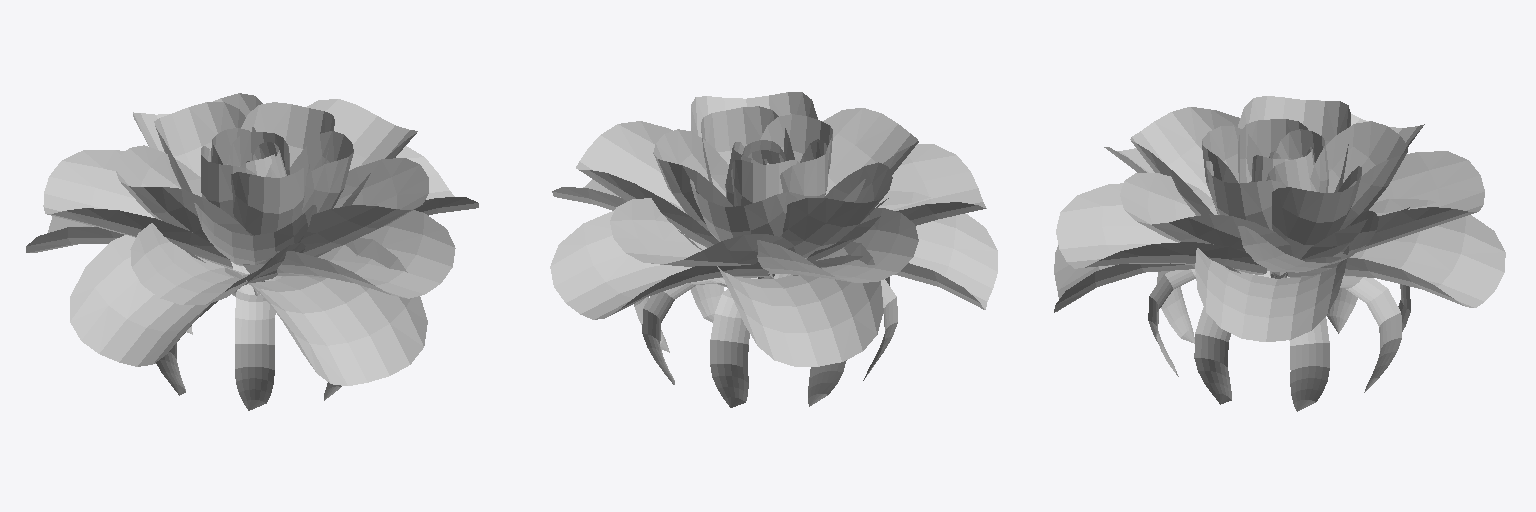
Rendered from FlowerTopModel_03_seq_0043.obj.
The picture shows the model from 3 angles: view 1: azimuth 30°, elevation 25°; view 2: azimuth 150°, elevation 25°; view 3: azimuth 270°, elevation 25°; orthographic projection.
Parts seen in each view (by area): view 1: FlowerTopModel_03; view 2: FlowerTopModel_03; view 3: FlowerTopModel_03.
Part boxes in pixels (left/top/right/bottom): FlowerTopModel_03: left=26, top=93, right=478, bottom=410; FlowerTopModel_03: left=550, top=92, right=997, bottom=407; FlowerTopModel_03: left=1054, top=96, right=1505, bottom=411.
Bounding box in the file's own units: 931 × 503 × 914.